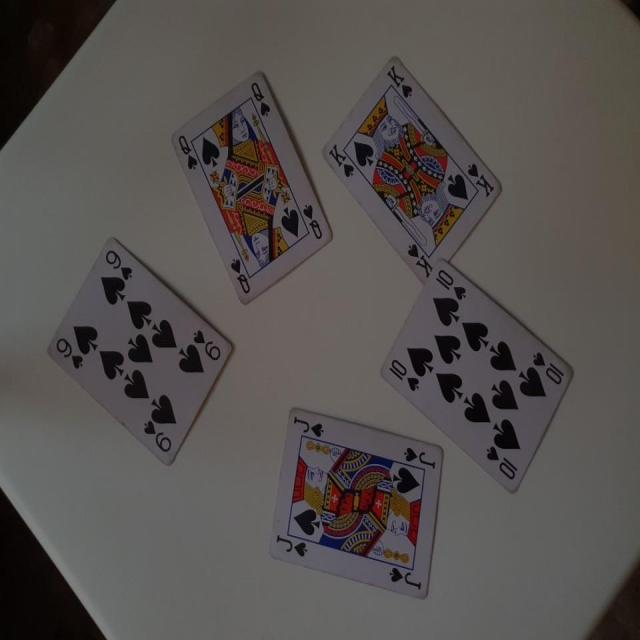10 Spades: (374, 262, 579, 505)
9 Spades: (48, 229, 237, 471)
J Spades: (266, 402, 447, 604)
K Spades: (320, 48, 506, 293)
Q Spades: (172, 63, 338, 314)
